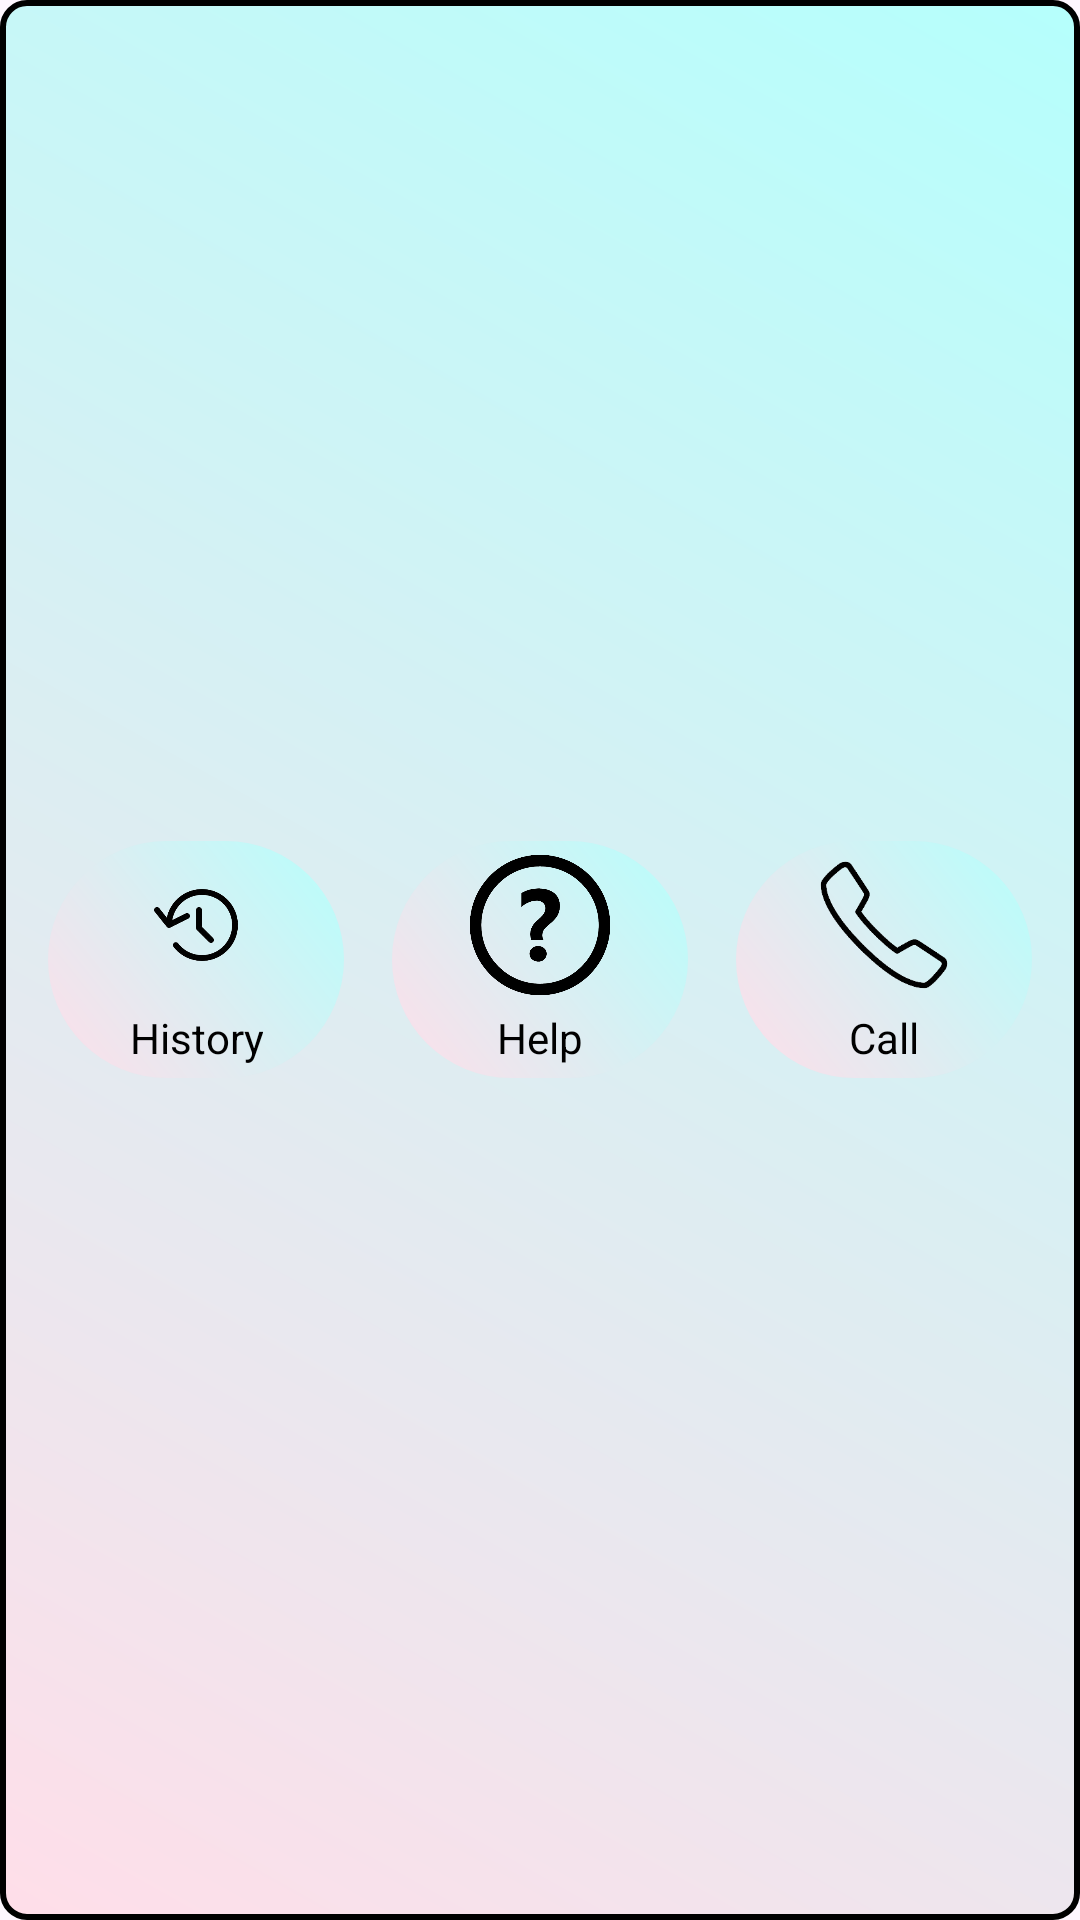

Icon click points for this 1080px×1920px phone screenshot, format [x,y]:
Emergency Contacts: [884,925]
